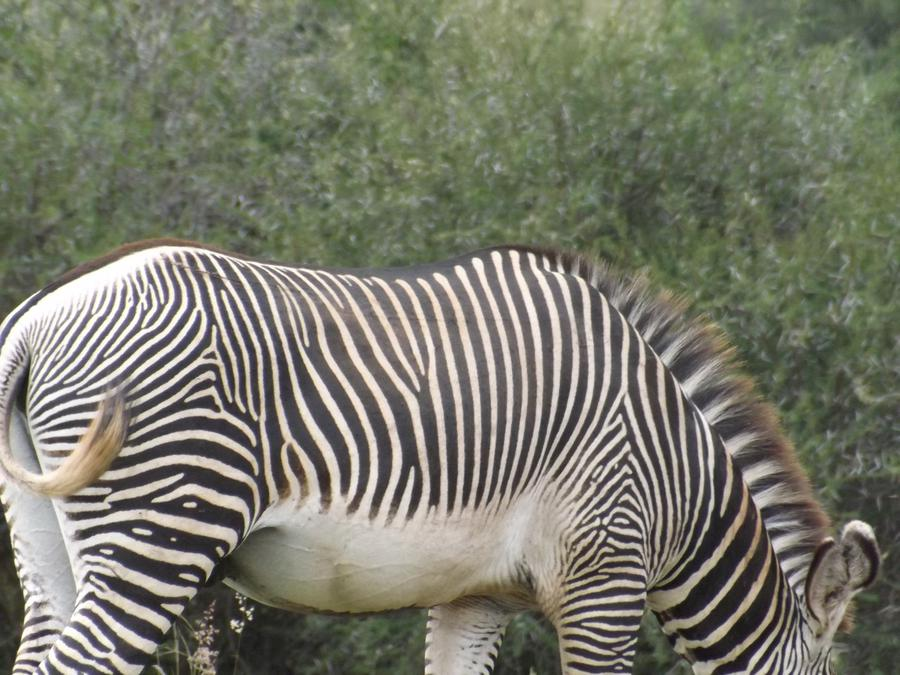zebra_grevys: (19, 235, 646, 611)
